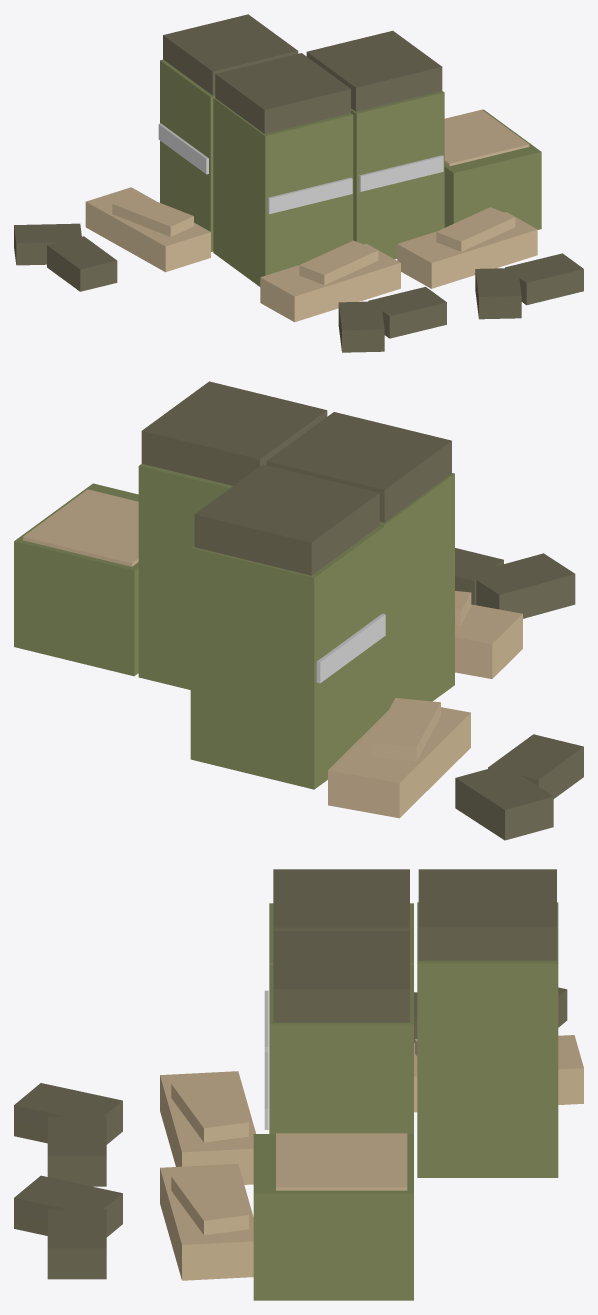
File: SM_HescoRemate_v3_RemateSacos_e1_Danado_LOD1.fbx
3 renders of one model, top to bottom at view 1: azimuth 30°, elevation 25°; view 2: azimuth 150°, elevation 25°; view 3: azimuth 270°, elevation 25°, orthographic. The views are drawn at different scales.
Parts seen in each view (by area): view 1: SM_hesco_piezas_v33_LOD1; view 2: SM_hesco_piezas_v33_LOD1; view 3: SM_hesco_piezas_v33_LOD1.
Part boxes in pixels (x1=…): SM_hesco_piezas_v33_LOD1: x1=14, y1=14, x2=583, y2=352; SM_hesco_piezas_v33_LOD1: x1=14, y1=381, x2=583, y2=840; SM_hesco_piezas_v33_LOD1: x1=14, y1=869, x2=583, y2=1300.
Size of the model in its own units: 5.25 by 2.09 by 4.33.
